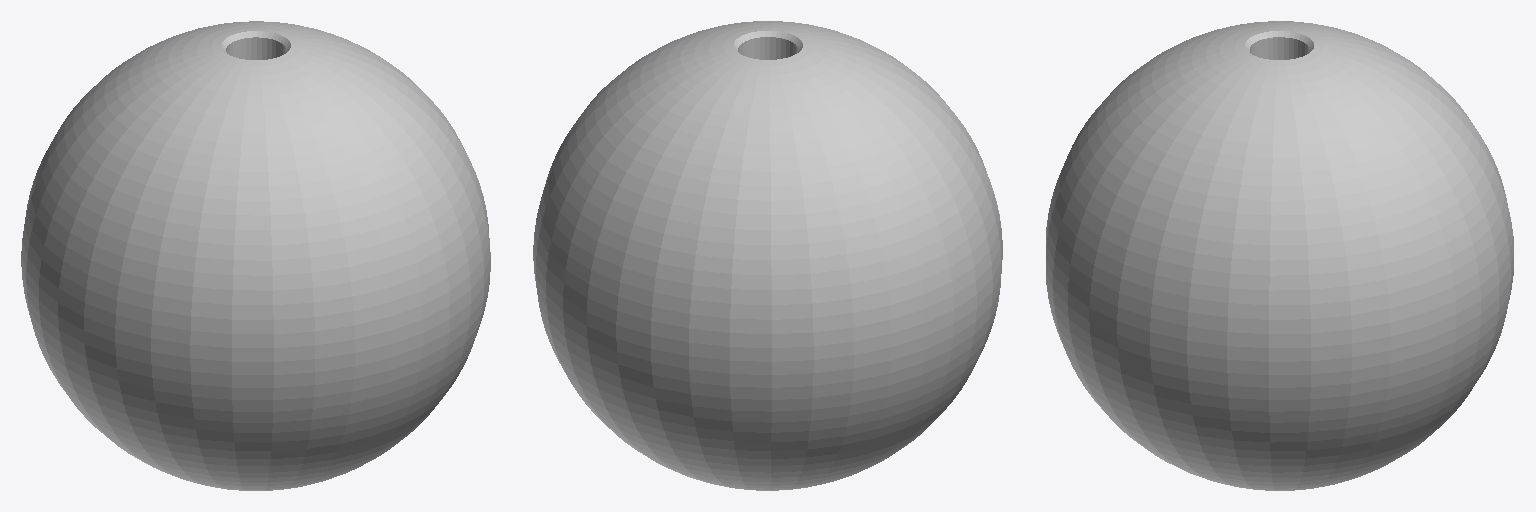
File: smoothmoon.obj
3 renders of one model, left to right at view 1: azimuth 30°, elevation 25°; view 2: azimuth 150°, elevation 25°; view 3: azimuth 270°, elevation 25°, orthographic.
Parts seen in each view (by area): view 1: Icosphere; view 2: Icosphere; view 3: Icosphere.
Boxes of the visible parts, x1,y1,x2,y2 form: Icosphere: [21, 21, 490, 490]; Icosphere: [533, 21, 1002, 490]; Icosphere: [1046, 21, 1513, 490].
Bounding box in the file's own units: 2 × 1.98 × 1.99.